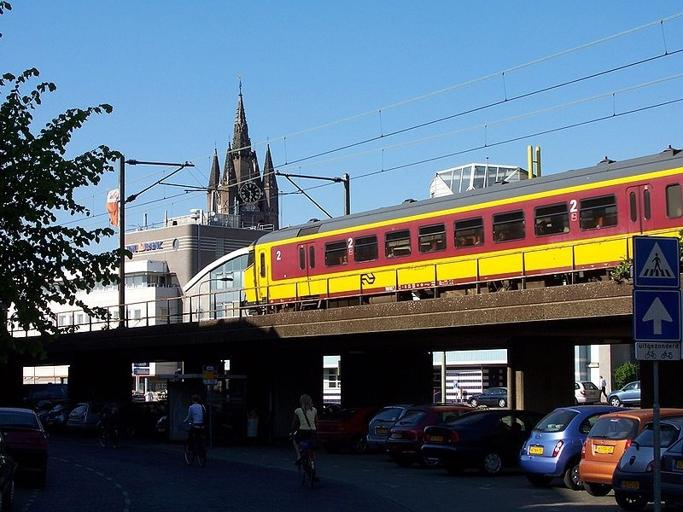non-vehicle: (288, 429, 318, 488), (181, 416, 207, 466), (95, 418, 120, 447)
